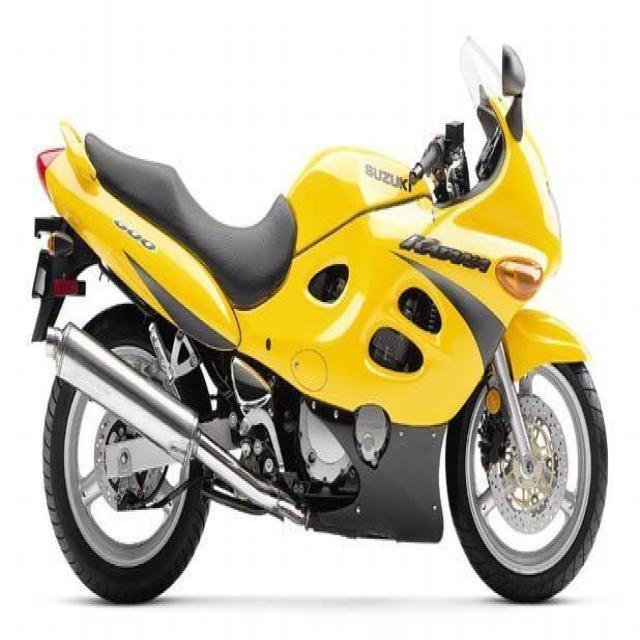Motorcycle: (12, 69, 616, 616)
